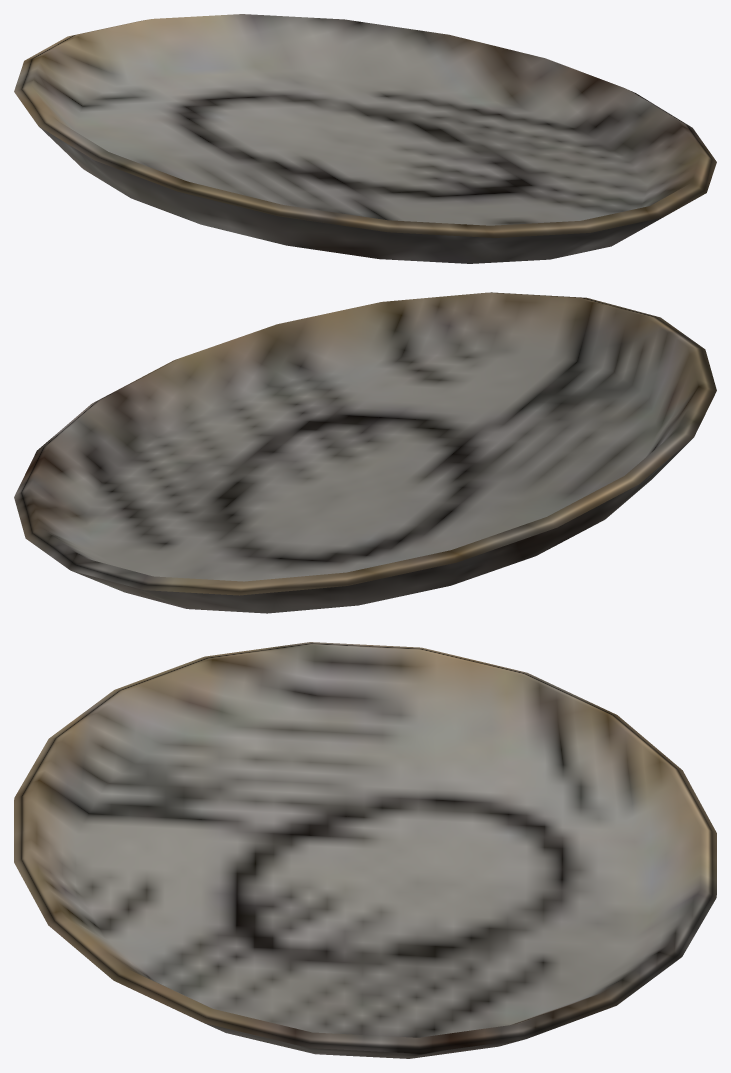
File: plate4.fbx
3 views of the same model, one above another, from view 1: azimuth 30°, elevation 25°; view 2: azimuth 150°, elevation 25°; view 3: azimuth 270°, elevation 25° (orthographic).
Parts seen in each view (by area): view 1: Strove.007; view 2: Strove.007; view 3: Strove.007.
Boxes of the visible parts, bbox=[...] form: Strove.007: bbox=[14, 14, 716, 263]; Strove.007: bbox=[14, 292, 716, 613]; Strove.007: bbox=[14, 642, 716, 1058].
Bounding box in the file's own units: 18.96 × 4.66 × 19.2.
Materials: 1 (1 with a texture image).
